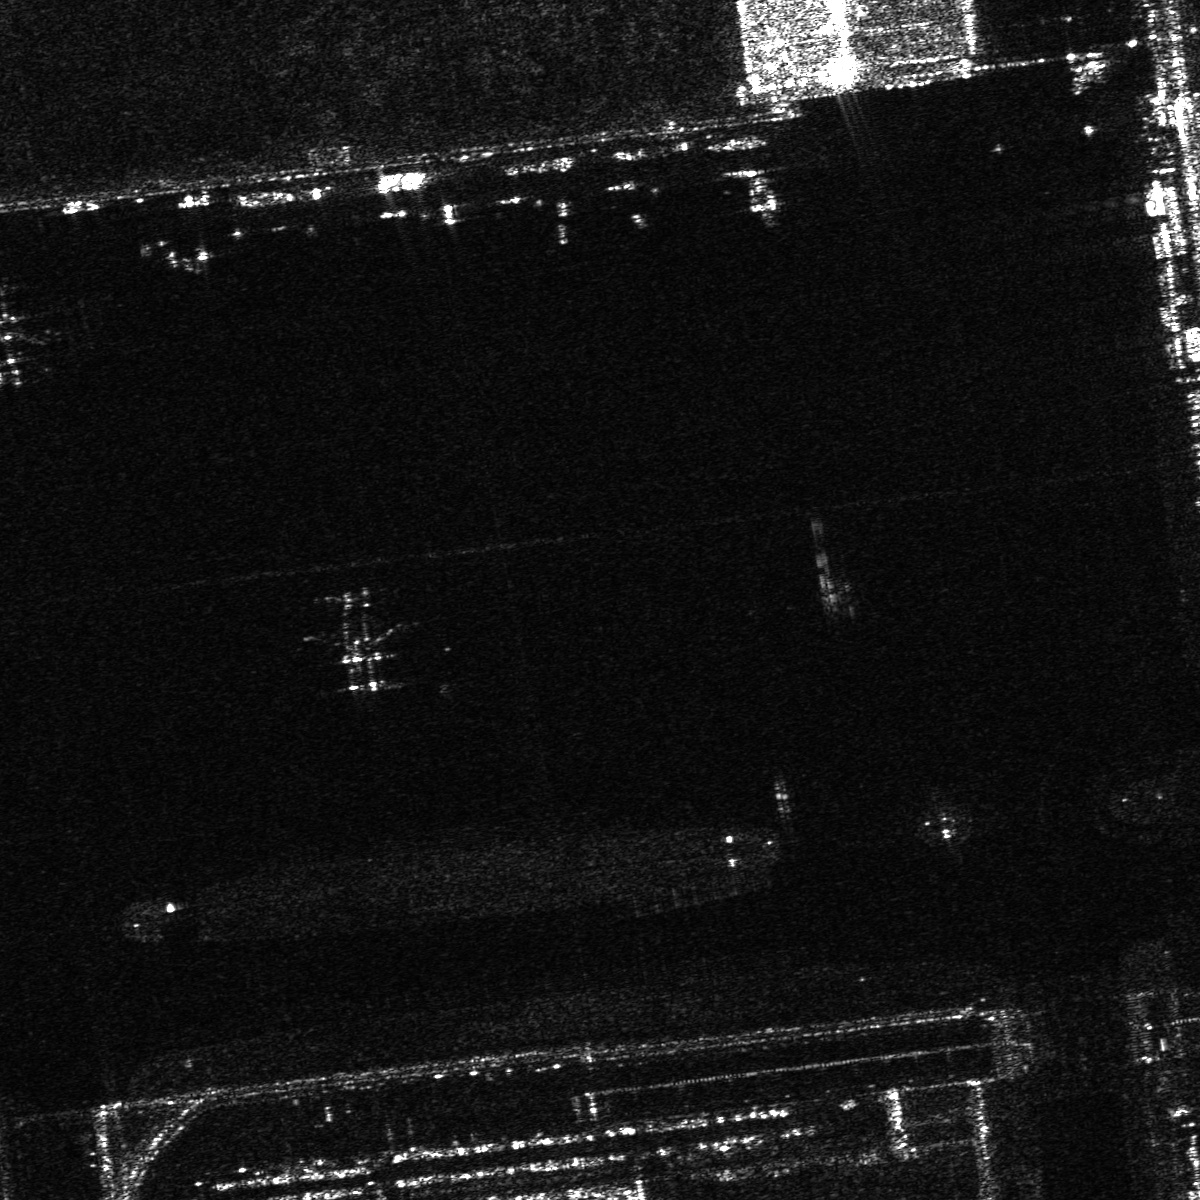A330: (305, 584, 405, 669), (919, 799, 968, 844)
